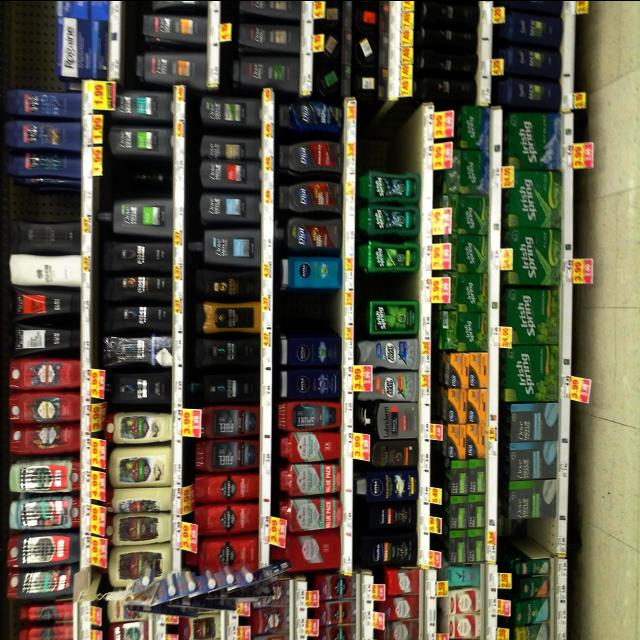empty_space: (10, 182, 82, 222), (362, 115, 418, 165), (281, 290, 339, 334), (502, 517, 554, 551), (115, 163, 173, 193), (366, 264, 416, 293)
